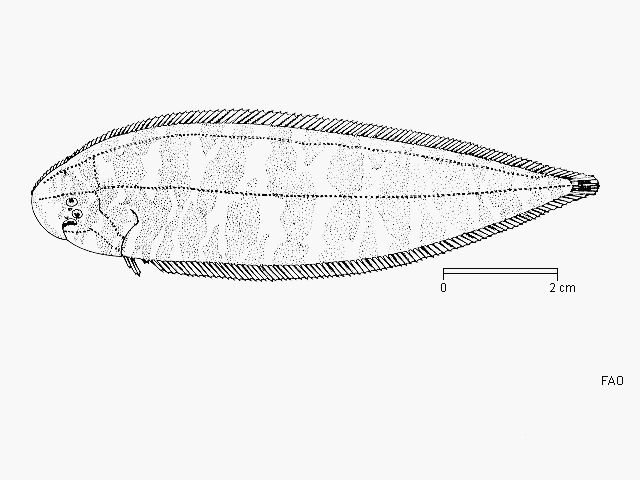fish: (30, 109, 600, 281)
